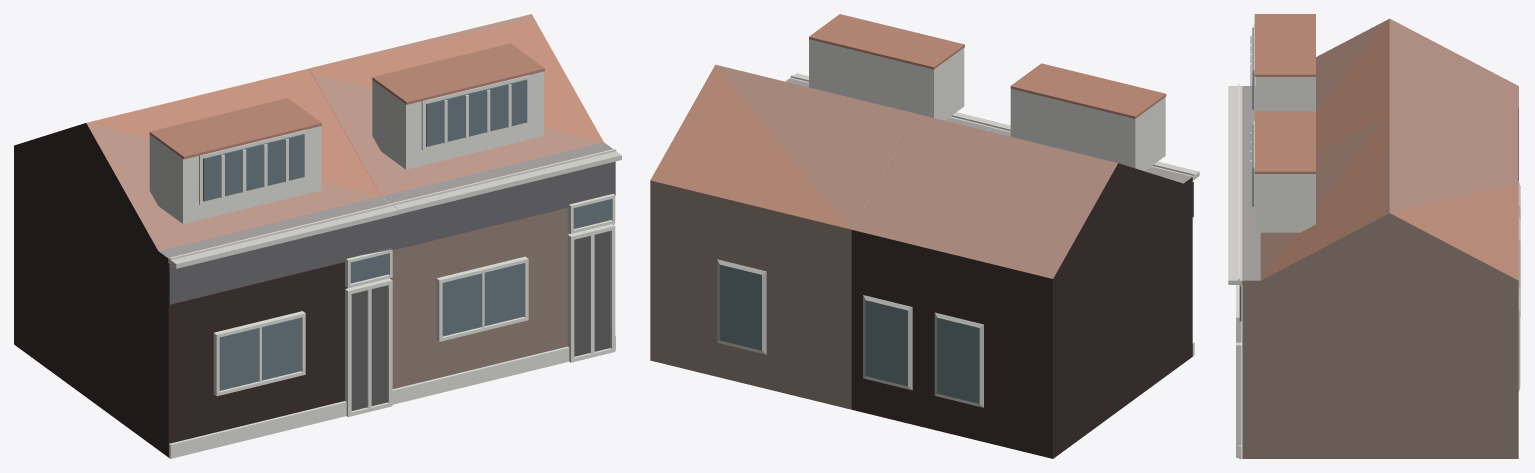
Rendered from chunk-face-vogelplantsoen-8-12-r1.lod2.glb.
3 renders of one model, left to right at view 1: azimuth 30°, elevation 25°; view 2: azimuth 150°, elevation 25°; view 3: azimuth 270°, elevation 25°, orthographic. The views are drawn at different scales.
Visible parts, largest first — view 1: lod2; view 2: lod2; view 3: lod2.
Part boxes in pixels (left/top/right/bottom): lod2: left=14, top=14, right=621, bottom=458; lod2: left=650, top=14, right=1199, bottom=458; lod2: left=1228, top=14, right=1520, bottom=458.
Size of the model in its own units: 10 by 6.23 by 6.35.
